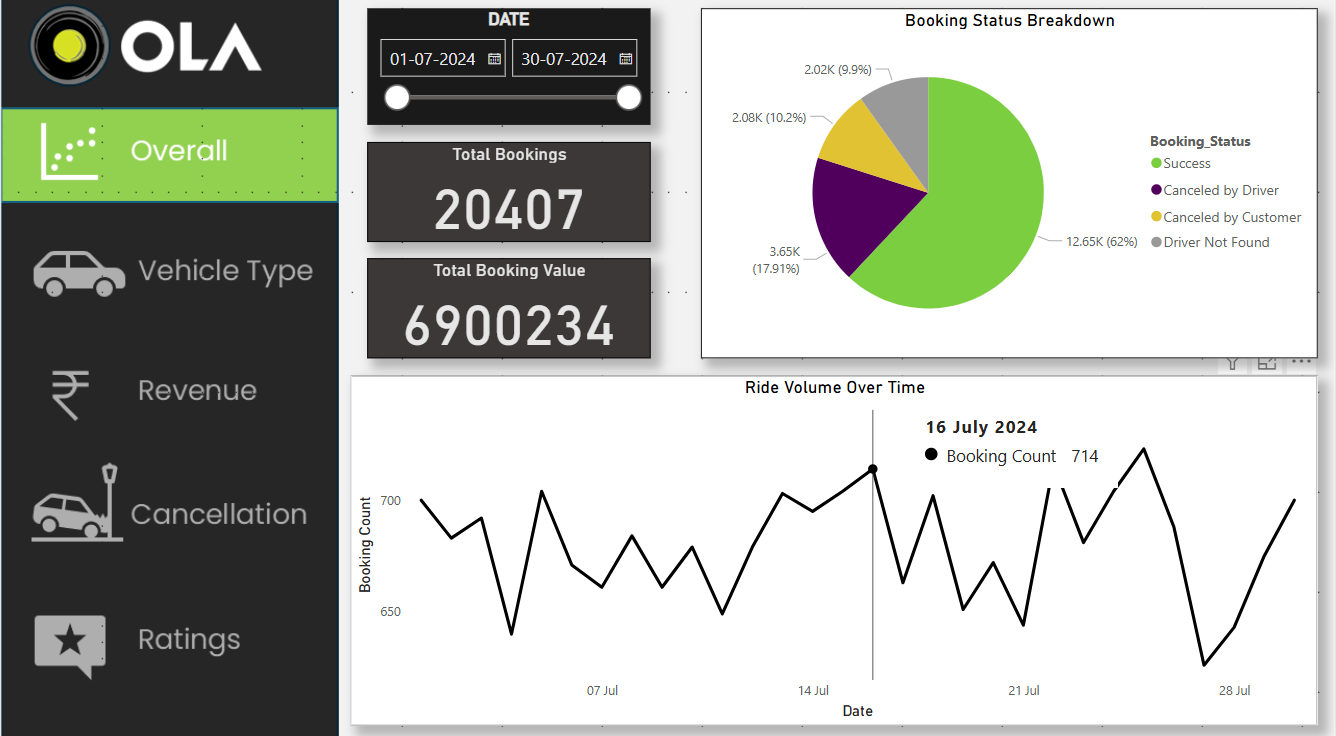

This screenshot's page, from the dashboard's own definition file:
{"tool":"powerbi","page":{"name":"Overall","canvas":[1280,720],"ordinal":0},"visuals":[{"type":"actionButton","box":[0,224,320,96],"z":0},{"type":"actionButton","box":[0,320,320,112],"z":1000},{"type":"actionButton","box":[0,448,320,96],"z":2000},{"type":"actionButton","box":[0,576,320,96],"z":3000},{"type":"lineChart","title":"Ride Volume Over Time","fields":{"Category":["Booking1.Date"],"Y":["CountNonNull(Booking1.Booking_ID)"]},"box":[336,368,928,336],"z":4000},{"type":"pieChart","title":"Booking Status Breakdown","fields":{"Category":["Booking1.Booking_Status"],"Y":["CountNonNull(Booking1.Booking_Status)"]},"box":[672,16,592,336],"z":5000},{"type":"slicer","title":"DATE","fields":{"Values":["Booking1.Date"]},"box":[352,16,272,112],"z":6000},{"type":"card","title":"Total Bookings","fields":{"Values":["CountNonNull(Booking1.Booking_ID)"]},"box":[352,144,272,96],"z":7000},{"type":"card","title":"  Total Booking Value","fields":{"Values":["Sum(Booking1.Booking_Value)"]},"box":[352,256,272,96],"z":8000}]}

Visuals, with their boxes in screenshot pixels (x1, y1, x2, y2), scaled from the page's 1280x720 canvas onto the 1336x736 screenshot:
actionButton: box(0, 229, 334, 327)
actionButton: box(0, 327, 334, 442)
actionButton: box(0, 458, 334, 556)
actionButton: box(0, 589, 334, 687)
"Ride Volume Over Time" lineChart: box(351, 376, 1319, 720)
"Booking Status Breakdown" pieChart: box(701, 16, 1319, 360)
"DATE" slicer: box(367, 16, 651, 131)
"Total Bookings" card: box(367, 147, 651, 245)
"  Total Booking Value" card: box(367, 262, 651, 360)
